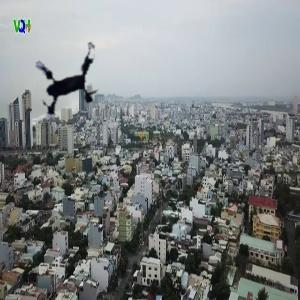drone: (10, 27, 116, 133)
